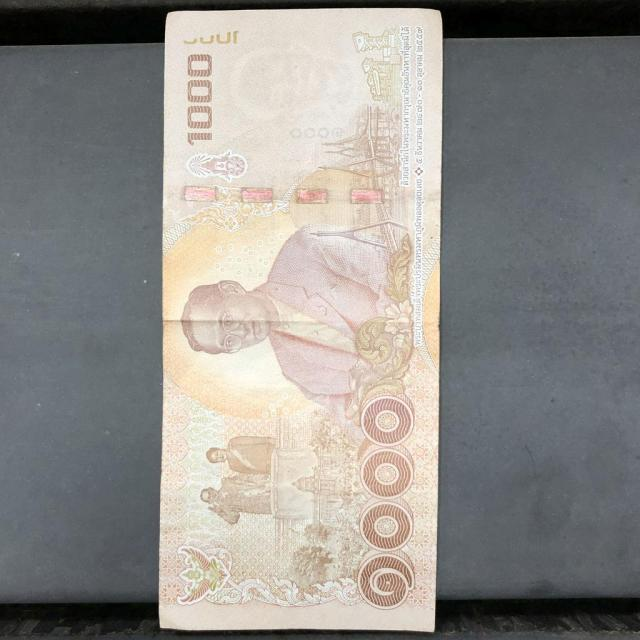THAI1000: (159, 9, 442, 630)
